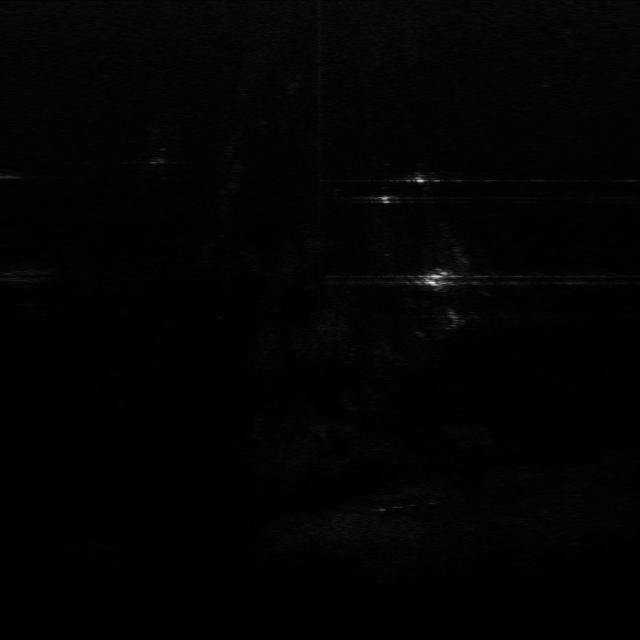rov: (418, 266, 454, 290)
